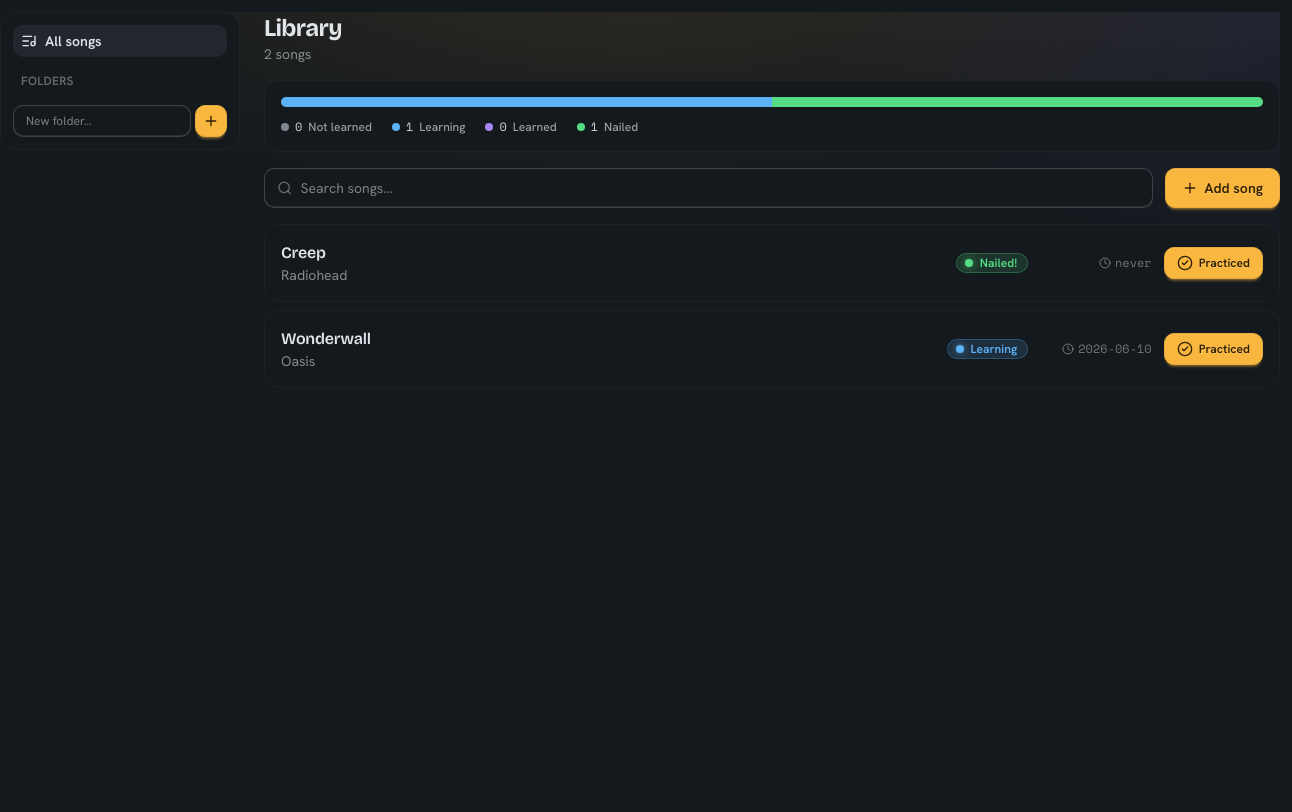
Scenario: HomePage library › logs practice and offers undo
The image size is (1292, 812).
Expected: the text "Wonderwall" is shown, [281,329,371,348]
Click the button "Practiced" next to "never" at point(1213, 263), box [1164,247,1263,279]
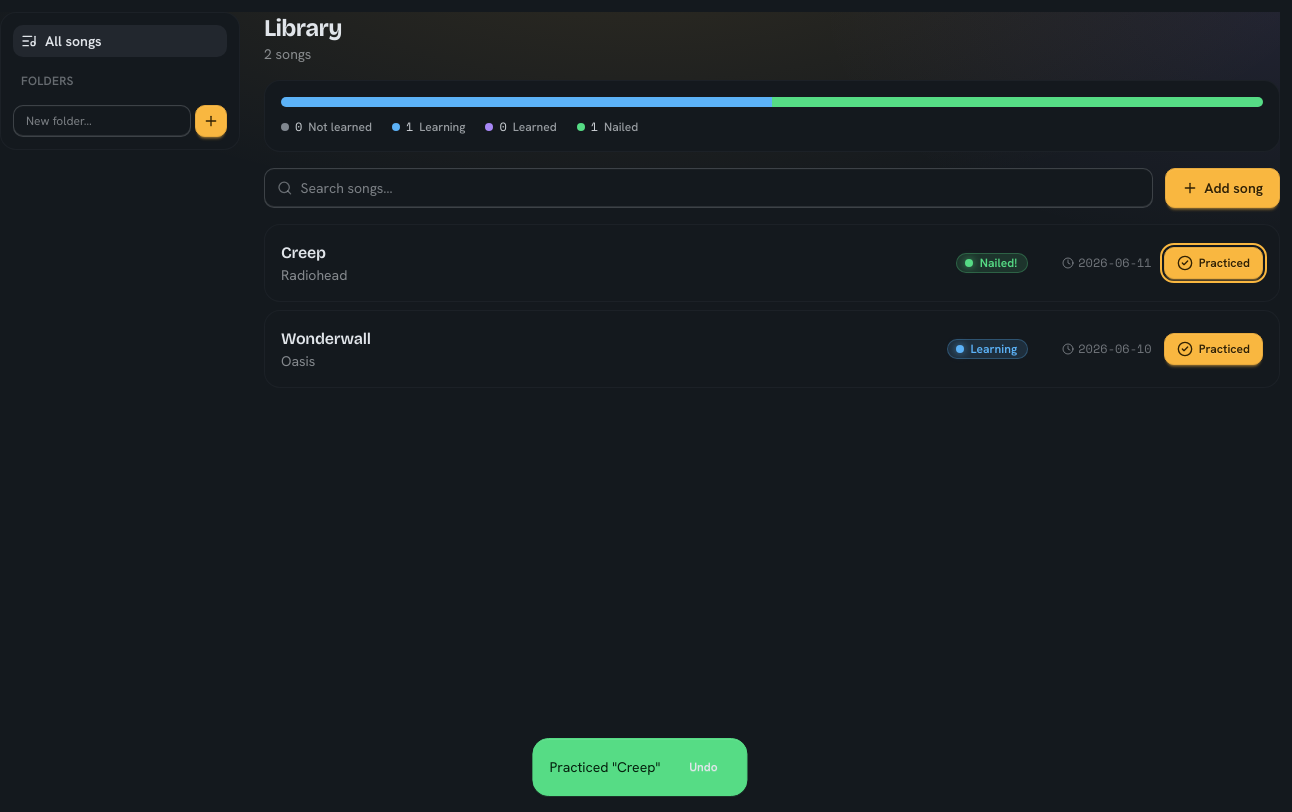
Expected: the button "Undo" is shown, [676,751,730,783]
